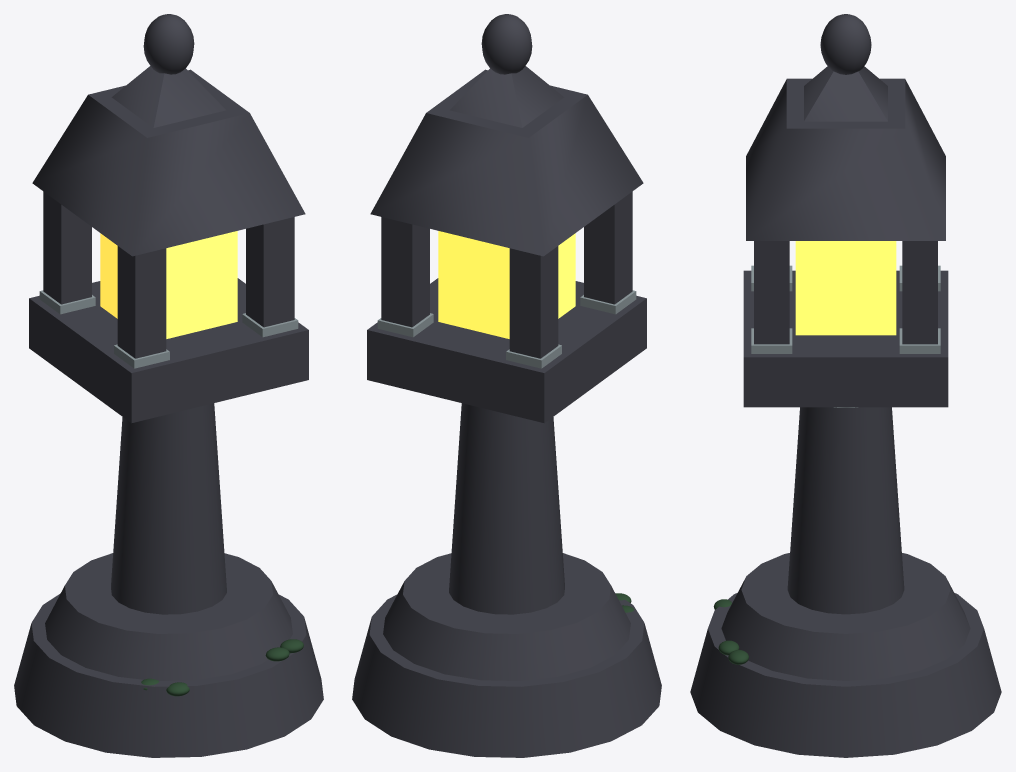
File: mia-stone_lantern.glb
3 renders of one model, left to right at view 1: azimuth 30°, elevation 25°; view 2: azimuth 150°, elevation 25°; view 3: azimuth 270°, elevation 25°, orthographic.
Visible parts, largest first — view 1: Body_stone, Body_amber, Body_steel, Body_cactus-shadow; view 2: Body_stone, Body_amber, Body_steel; view 3: Body_stone, Body_amber, Body_steel, Body_cactus-shadow.
Boxes of the visible parts, x1=… form: Body_stone: x1=14, y1=14, x2=323, y2=757; Body_amber: x1=100, y1=231, x2=237, y2=338; Body_steel: x1=39, y1=290, x2=298, y2=368; Body_cactus-shadow: x1=141, y1=639, x2=303, y2=696; Body_stone: x1=352, y1=14, x2=661, y2=757; Body_amber: x1=438, y1=231, x2=575, y2=338; Body_steel: x1=377, y1=290, x2=636, y2=368; Body_stone: x1=690, y1=14, x2=1001, y2=757; Body_amber: x1=795, y1=241, x2=896, y2=335; Body_steel: x1=751, y1=265, x2=940, y2=407; Body_cactus-shadow: x1=713, y1=599, x2=748, y2=664.
Bounding box in the file's own units: 0.744 × 1.78 × 0.744.
